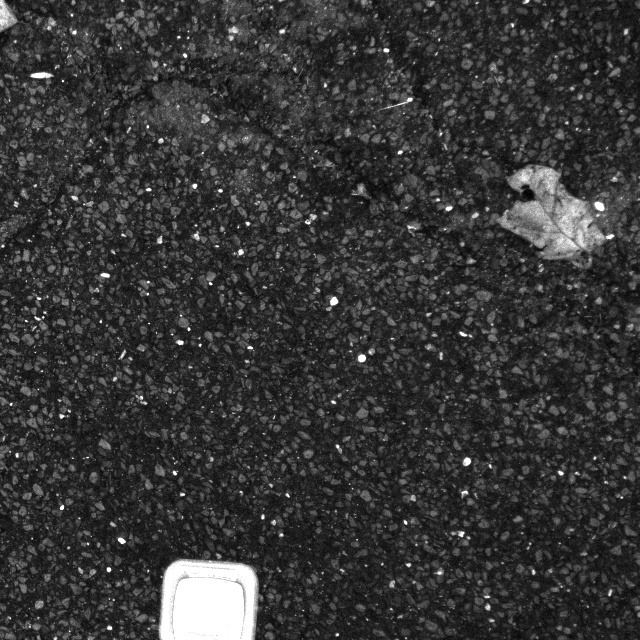container: (152, 548, 261, 640)
